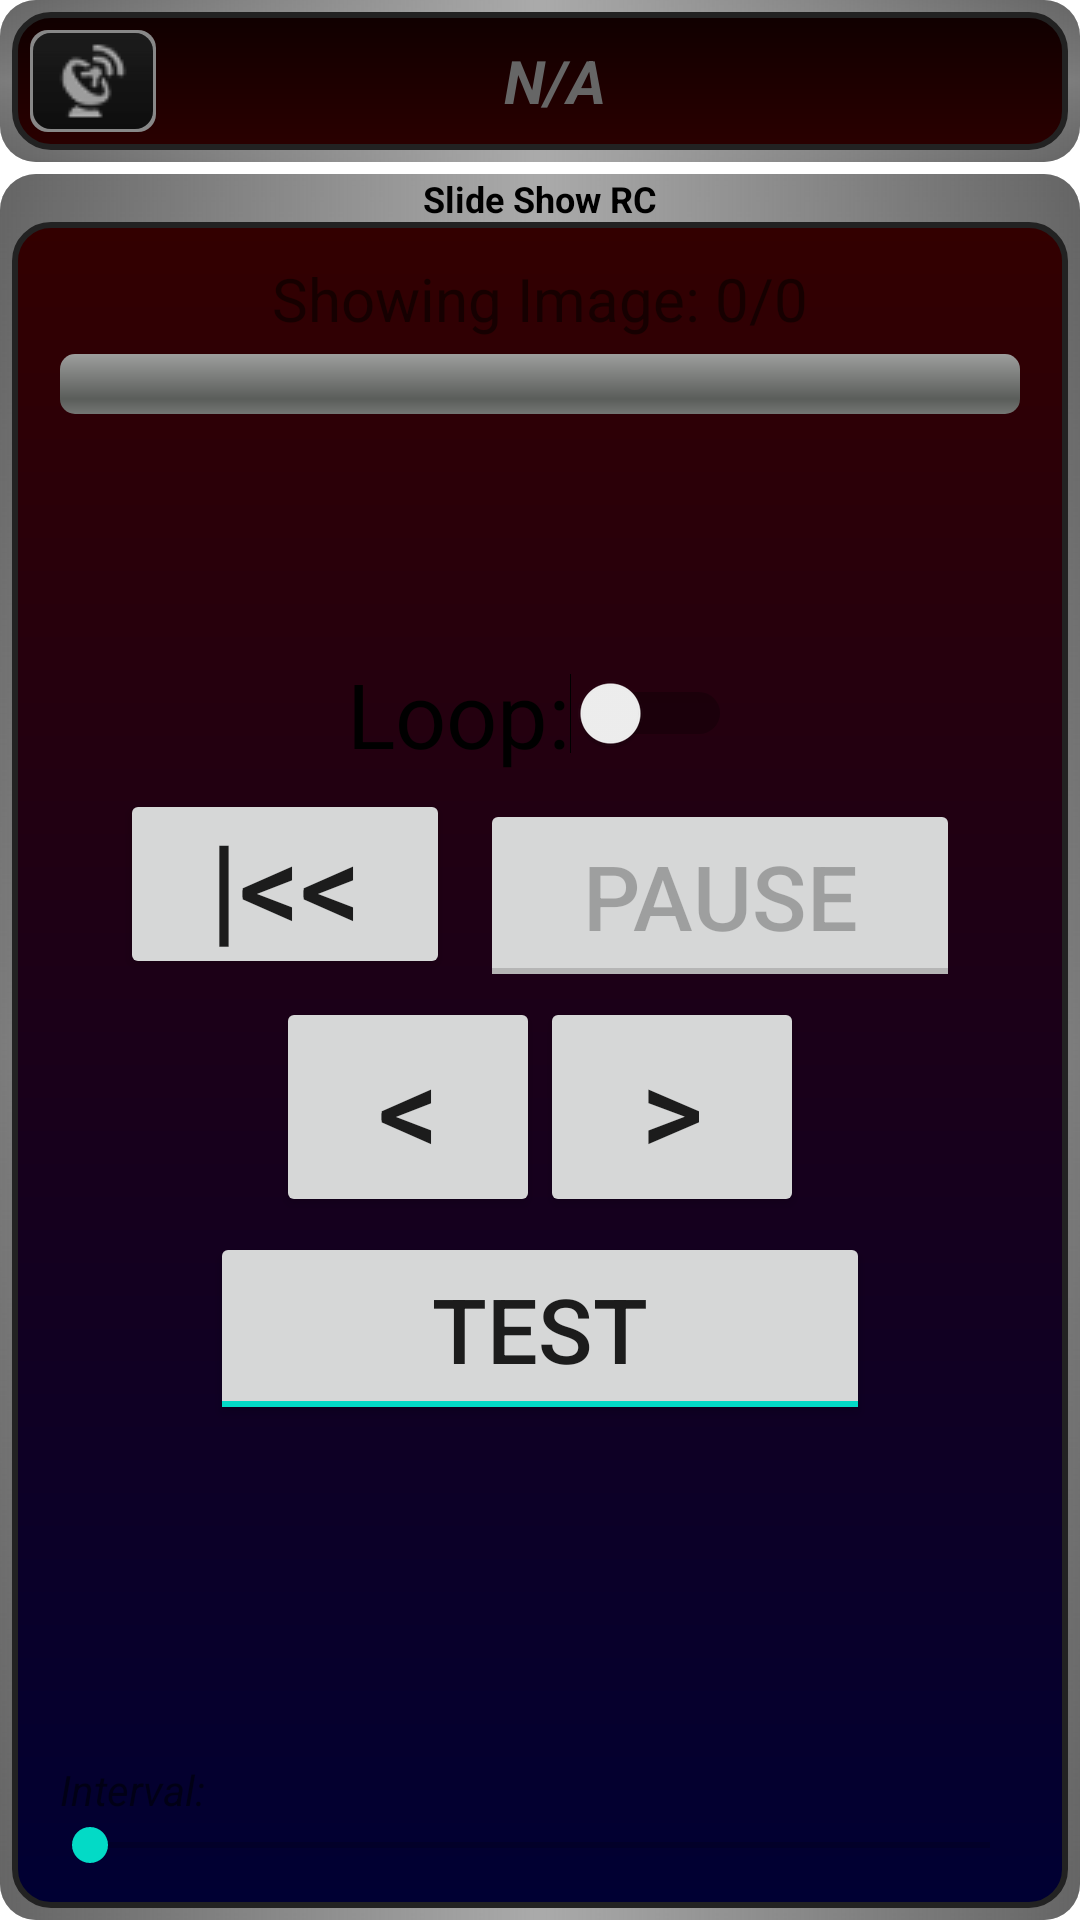

Where to tap for icons on this 1080px x 1920px app screen, as point (x, y):
radio: point (93, 81)
